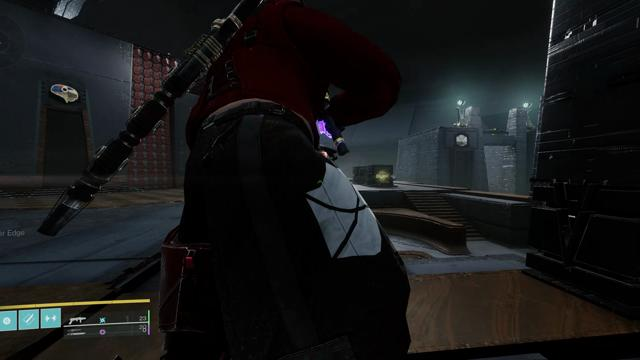brain: (49, 79, 80, 105)
commune: (456, 135, 467, 147)
